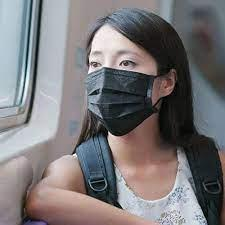mask: (81, 65, 158, 134)
